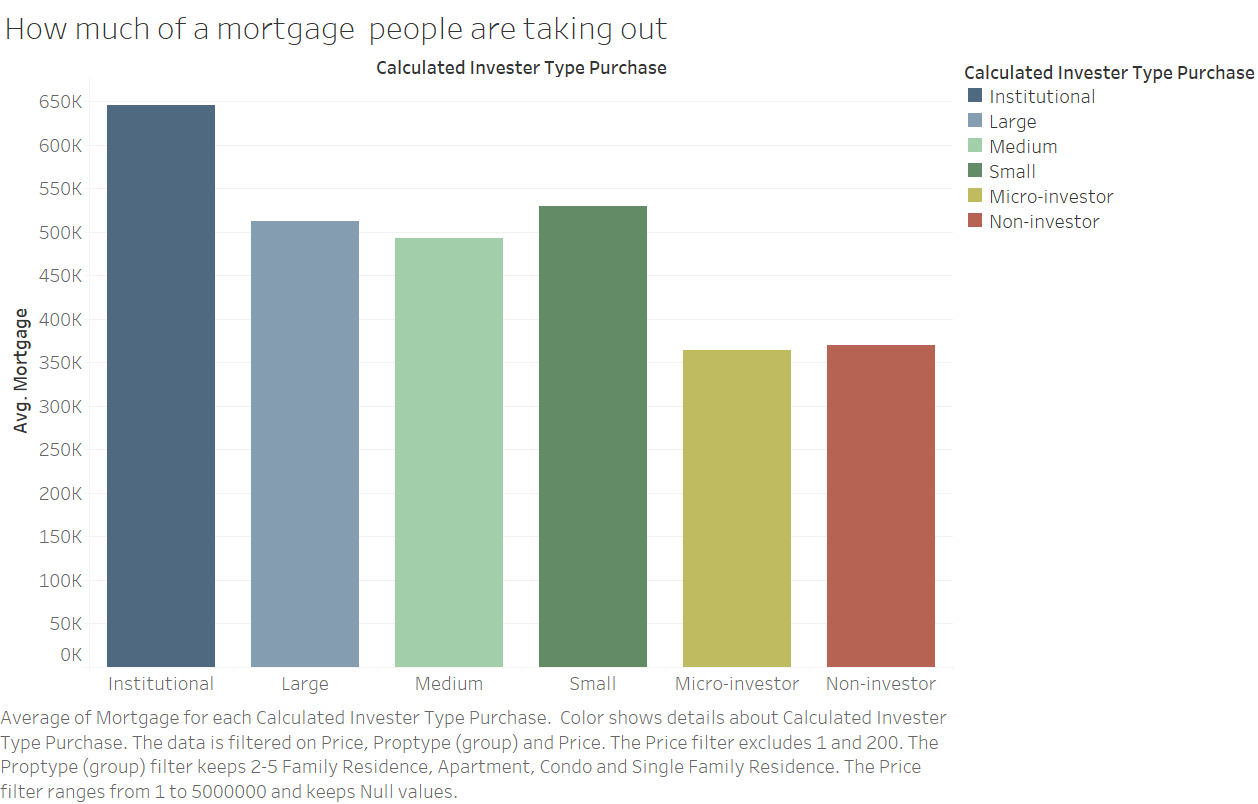

The dashboard page shown, as its layout file describes it:
{"tool":"tableau","page":{"name":"Dashboard 1","canvas":[1000,800],"ordinal":0},"visuals":[{"type":"worksheet","title":"Sheet 2","mark":"Bar","rows":["Year"],"box":[8,8,759.7,784]},{"type":"legend","title":"Sheet 2","param":"[federated.0ll3gzu0fbkppw1ernb2y09t1gbt].[Grouped ages]","box":[767.7,8,224.3,784]}]}

Visuals, with their boxes on the page's 1000x800 design canvas (x1, y1, x2, y2). These are canvas units, not pixel positions in the 1258x804 screenshot, which may show the page scaled, cropped or inside an application window:
"Sheet 2" worksheet (Bar marks): {"x1": 8, "y1": 8, "x2": 768, "y2": 792}
"Sheet 2" legend: {"x1": 768, "y1": 8, "x2": 992, "y2": 792}
